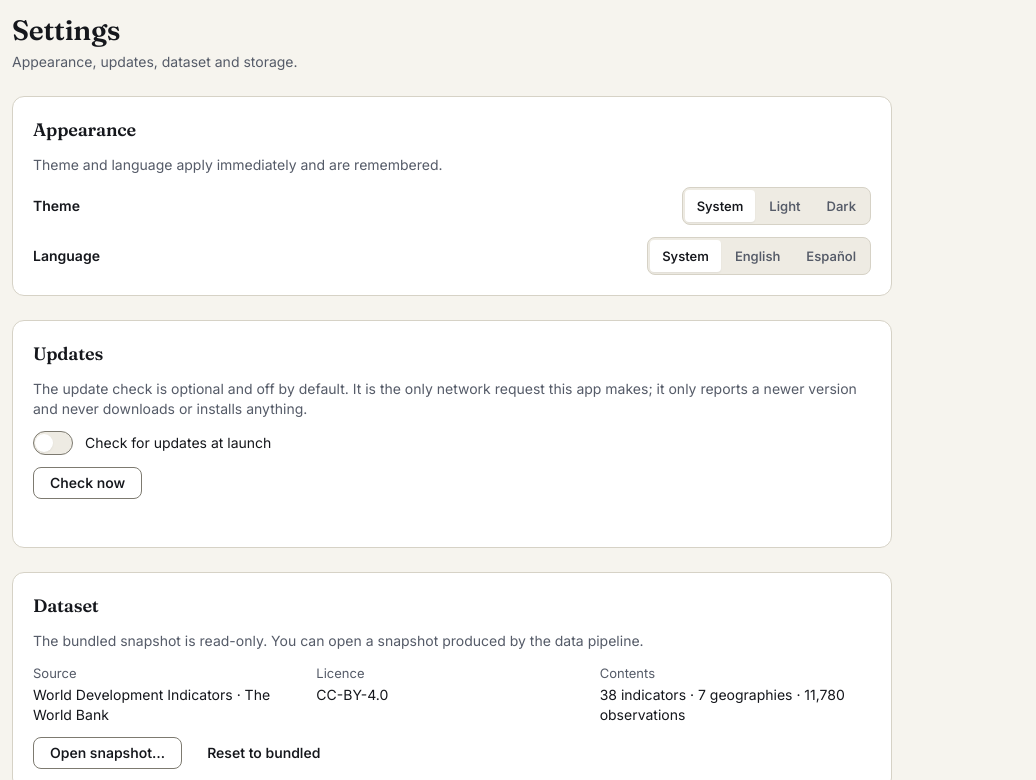
it: SettingsPage › announces up-to-date results
expect the switch named "Check for updates at launch" is shown: met, box [33,431,73,455]
Click the button "Check now": (88, 483) [33,467,142,499]
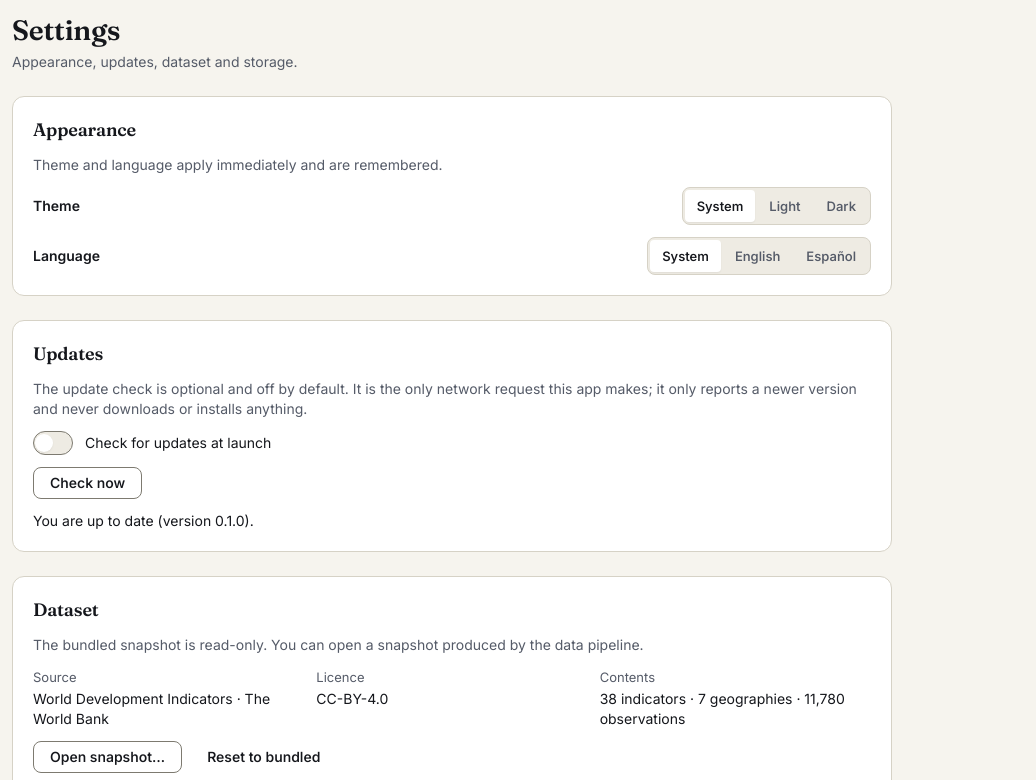
expect the text "You are up to date (version 0.1.0)." is shown: met, box [33,512,254,529]
